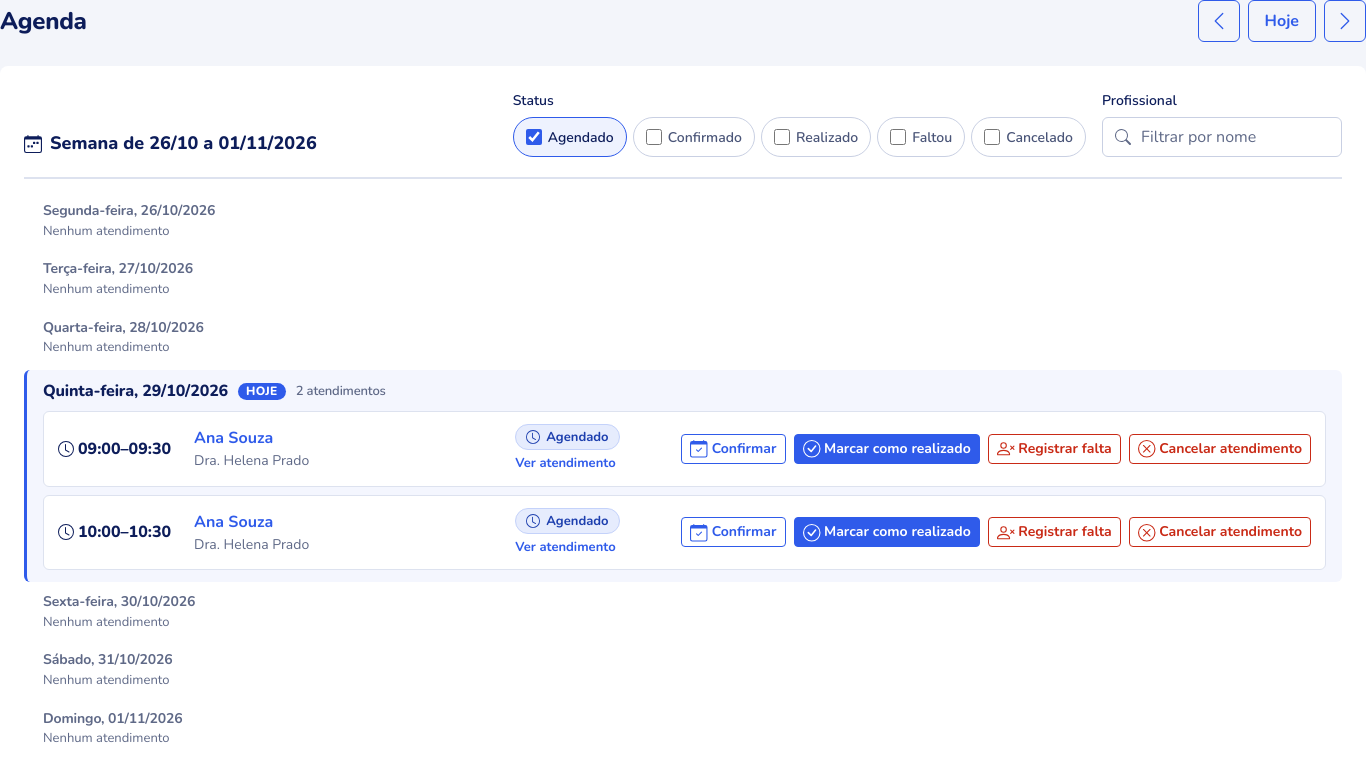
AgendaView › drops an item whose new status leaves the status filter, focusing the next one
Click the button "Confirmar" in the row of "09:00–09:30": (733, 449) [681,434,786,464]
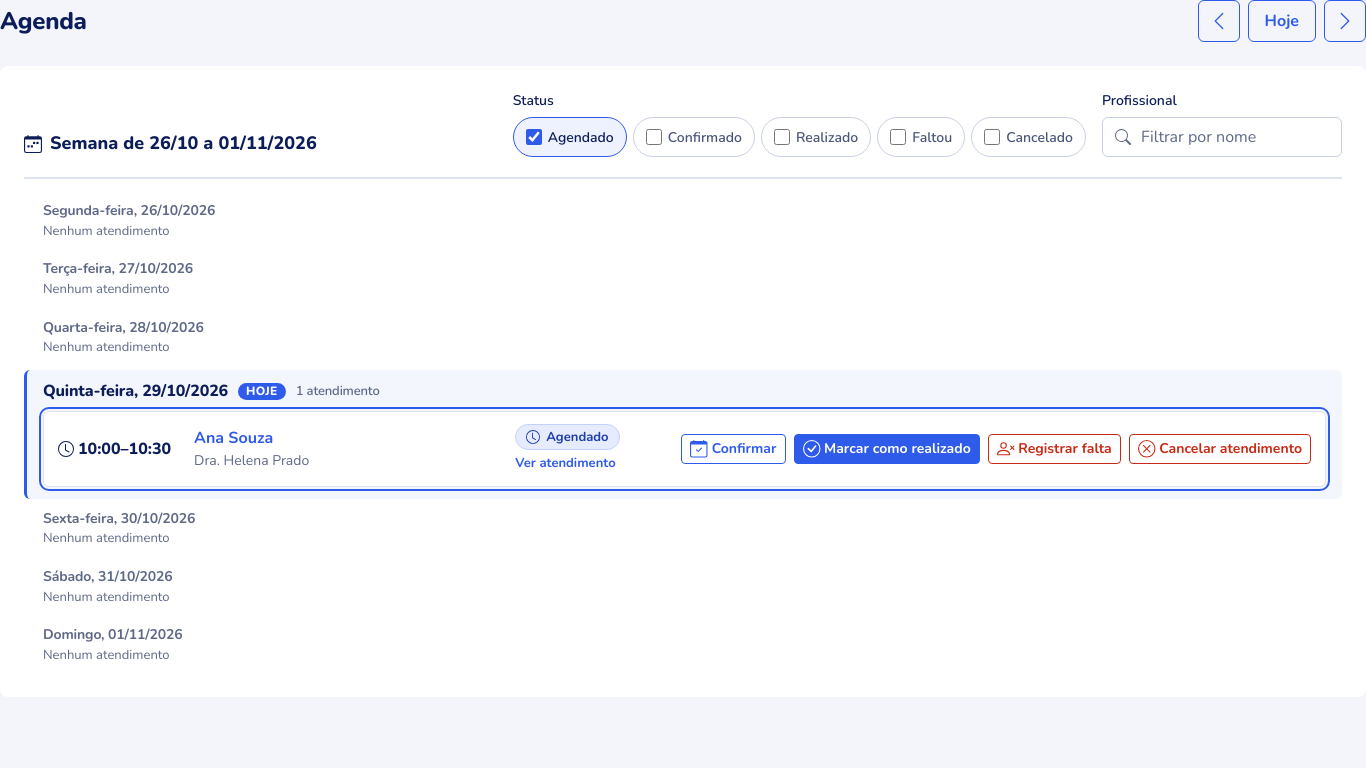
Check: the list item with id "agenda-item-3" is gone
